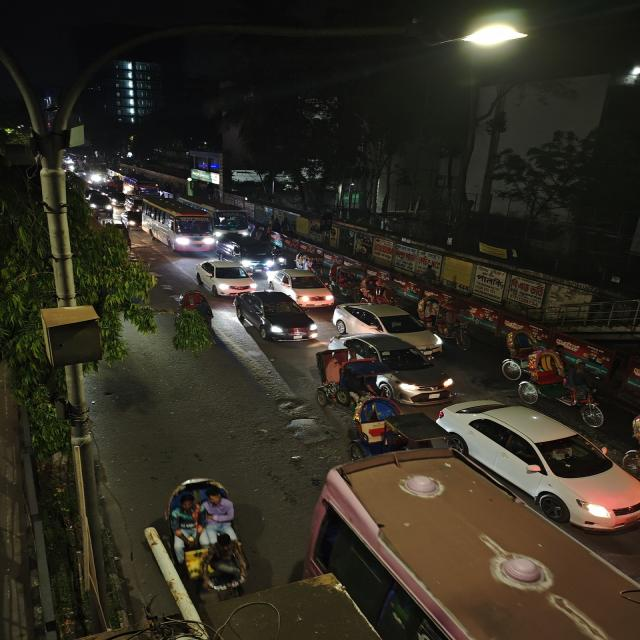bus: (142, 199, 214, 255), (212, 204, 250, 236), (125, 177, 160, 201)
car: (448, 396, 639, 536), (337, 334, 459, 406), (332, 302, 446, 352), (231, 290, 320, 346), (192, 259, 256, 296), (276, 268, 336, 306), (220, 236, 282, 268), (83, 190, 116, 214)
cng: (123, 208, 144, 230)
rickshaw: (140, 472, 261, 602), (519, 348, 608, 419), (343, 394, 400, 451), (174, 289, 215, 323)
